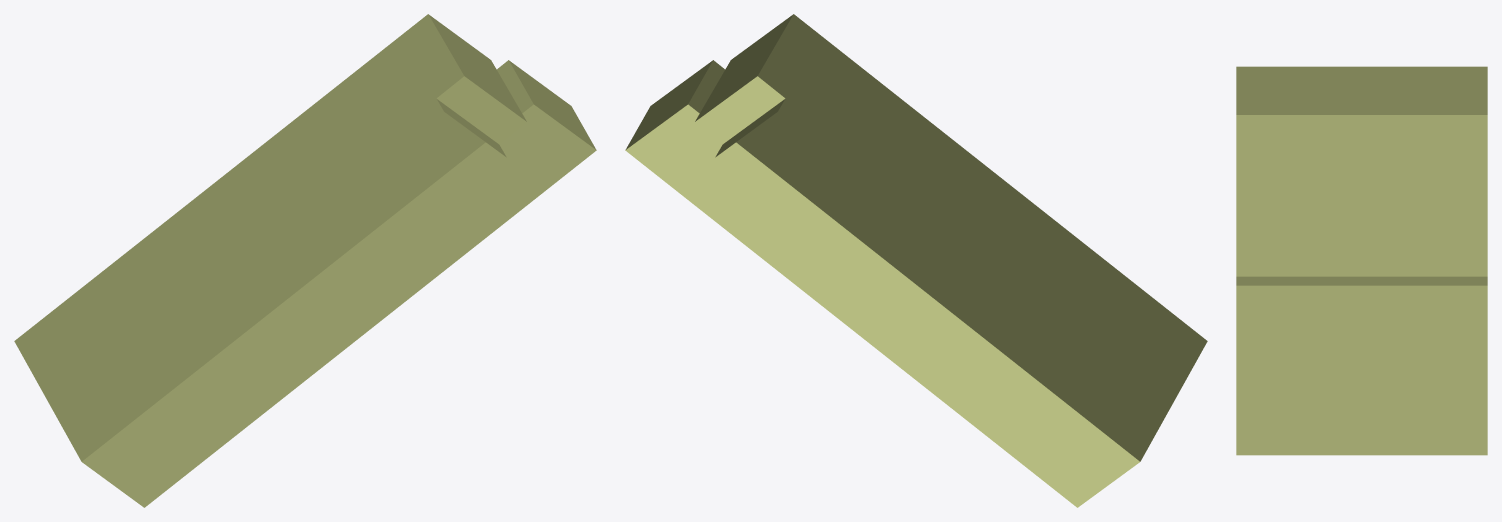
3 views of the same model, side by side, from view 1: azimuth 30°, elevation 25°; view 2: azimuth 150°, elevation 25°; view 3: azimuth 270°, elevation 25° (orthographic). The views are drawn at different scales.
Parts seen in each view (by area): view 1: 0_1_0_2_2_1_0_0_3; view 2: 0_1_0_2_2_1_0_0_3; view 3: 0_1_0_2_2_1_0_0_3.
Boxes of the visible parts, x1,y1,x2,y2 form: 0_1_0_2_2_1_0_0_3: (14,14,596,507); 0_1_0_2_2_1_0_0_3: (625,14,1207,507); 0_1_0_2_2_1_0_0_3: (1236,66,1487,455).
Bounding box in the file's own units: 28.62 × 19.12 × 6.
